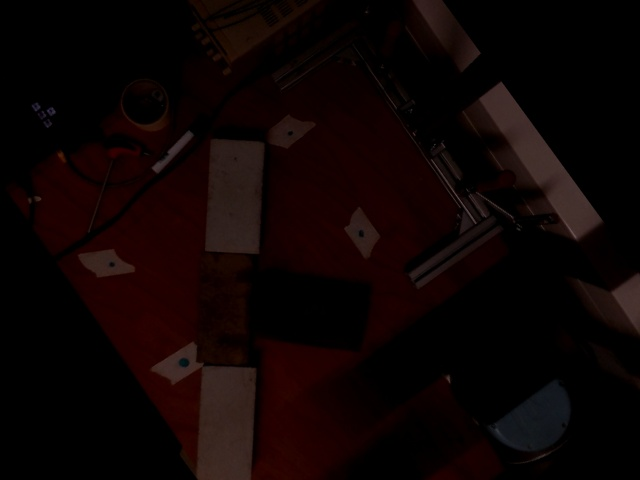brick: (249, 285, 369, 349), (198, 366, 253, 478), (207, 138, 261, 250), (196, 254, 250, 366)
